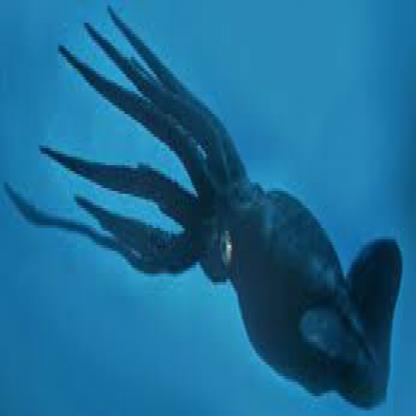colossal_squid: (31, 23, 394, 413)
